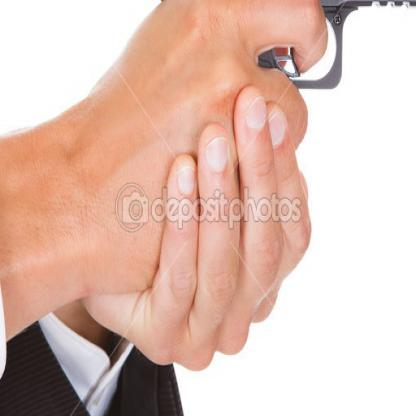gun: (141, 0, 415, 249)
